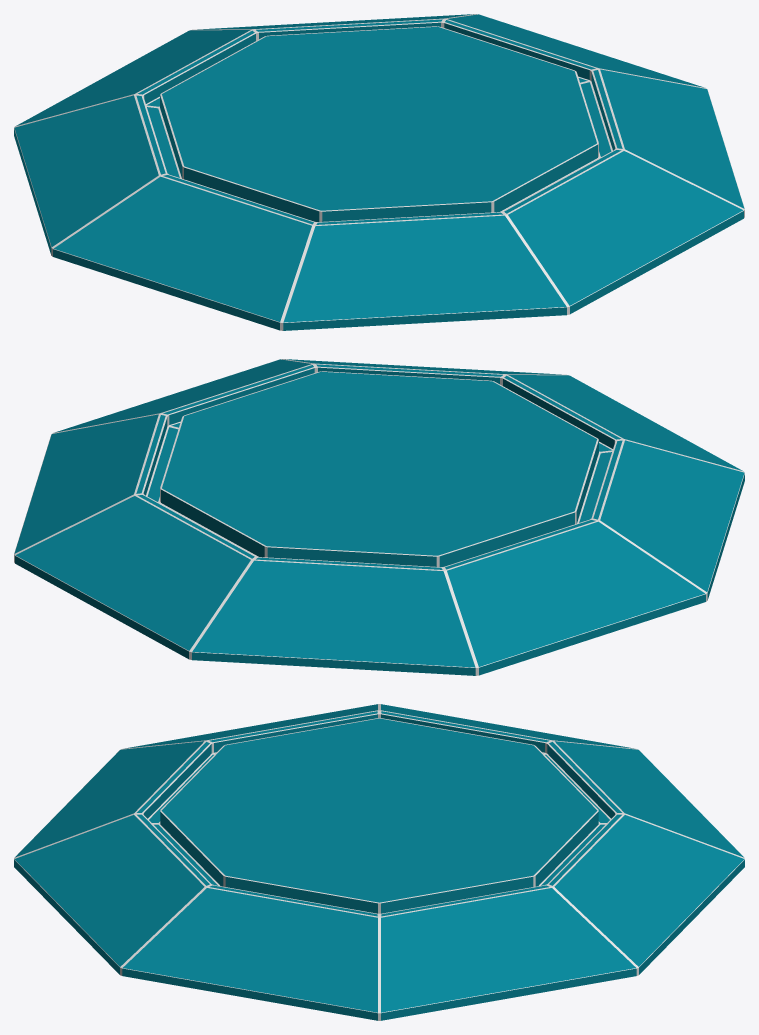
Rendered from Jump Pad.fbx.
The picture shows the model from 3 angles, top to bottom: view 1: azimuth 30°, elevation 25°; view 2: azimuth 150°, elevation 25°; view 3: azimuth 270°, elevation 25°; orthographic projection. The views are drawn at different scales.
Visible parts, largest first — view 1: Cube; view 2: Cube; view 3: Cube.
Part boxes in pixels (x1,y1,x2,y2): Cube: (14,14,744,330); Cube: (14,359,744,675); Cube: (14,704,744,1020).
Size of the model in its own units: 359 by 30.83 by 359.
